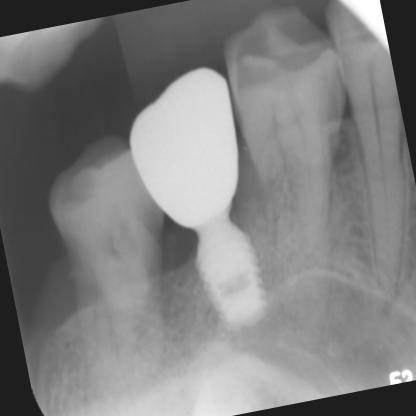Bicon: (175, 214, 279, 336)
